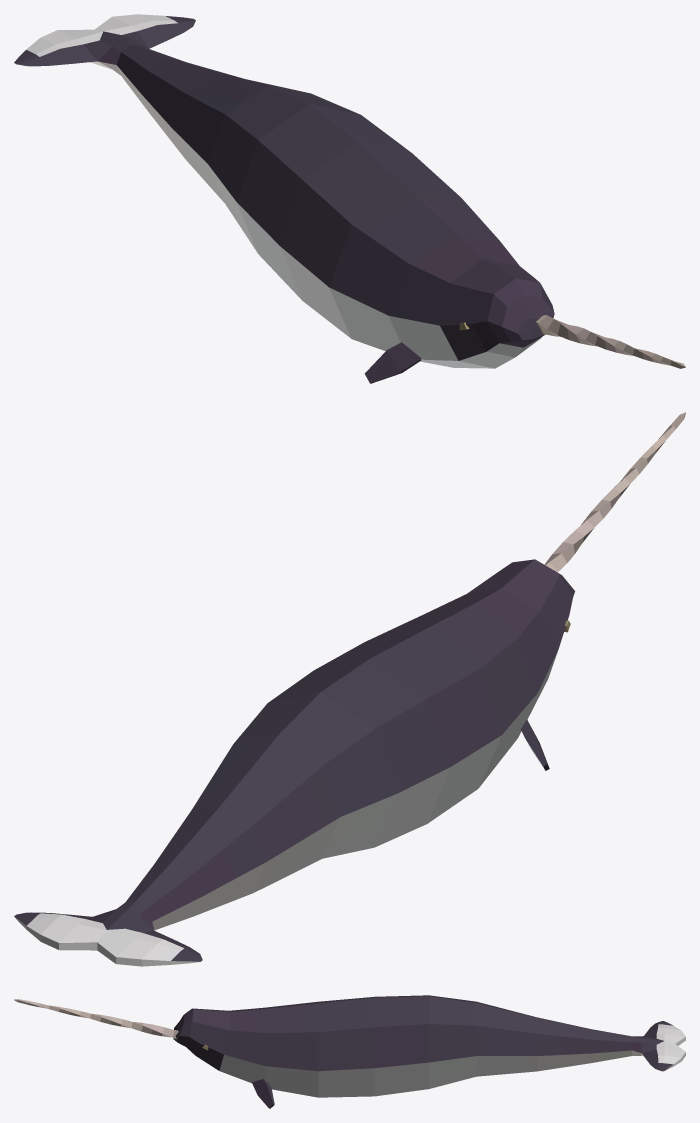
The model's file is animals-narwhal-150.glb.
3 views of the same model, one above another, from view 1: azimuth 30°, elevation 25°; view 2: azimuth 150°, elevation 25°; view 3: azimuth 270°, elevation 25° (orthographic). The views are drawn at different scales.
Parts seen in each view (by area): view 1: Geo_Narwhal; view 2: Geo_Narwhal; view 3: Geo_Narwhal.
Part boxes in pixels (left/top/right/bottom): Geo_Narwhal: left=14, top=14, right=685, bottom=383; Geo_Narwhal: left=14, top=412, right=685, bottom=966; Geo_Narwhal: left=14, top=995, right=685, bottom=1108.
Bounding box in the file's own units: 118 × 110 × 669.
1 material, 1 textured.
